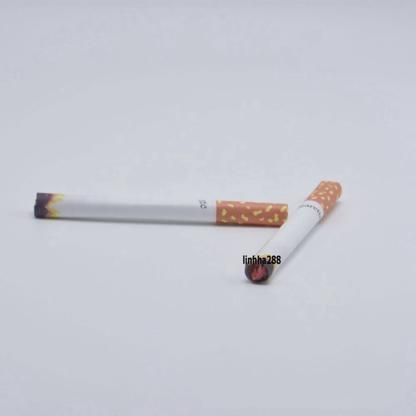trash: (244, 180, 352, 282), (29, 190, 290, 226)
